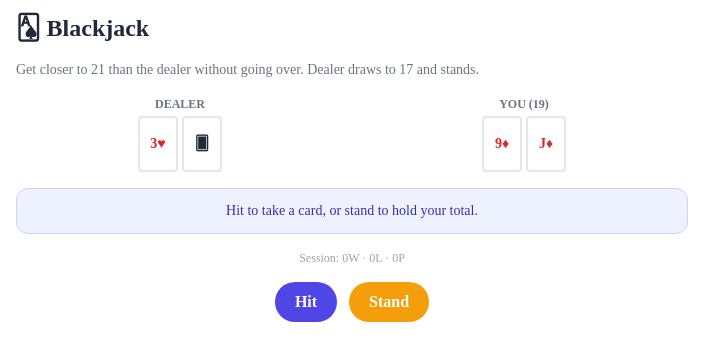
BlackjackGame › reveals the dealer hand and settles the round when the player stands
Click the button "Stand" at {"x": 389, "y": 302}, box [349,282,429,322]
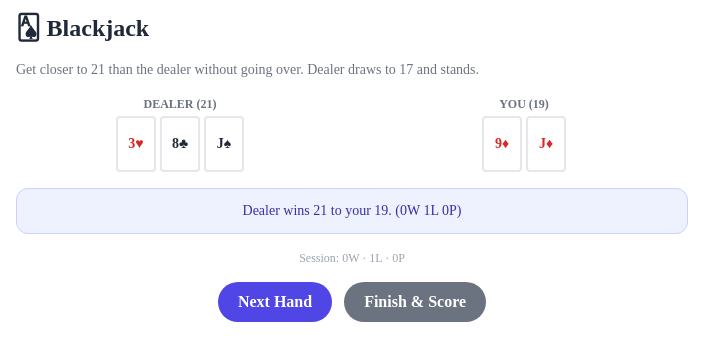
Check: the text "Session: 0W · 1L · 0P" is shown, box [299,251,405,265]
Check: the text "🂠" is gone
Check: the button "Next Hand" is shown, box [218,282,332,322]
